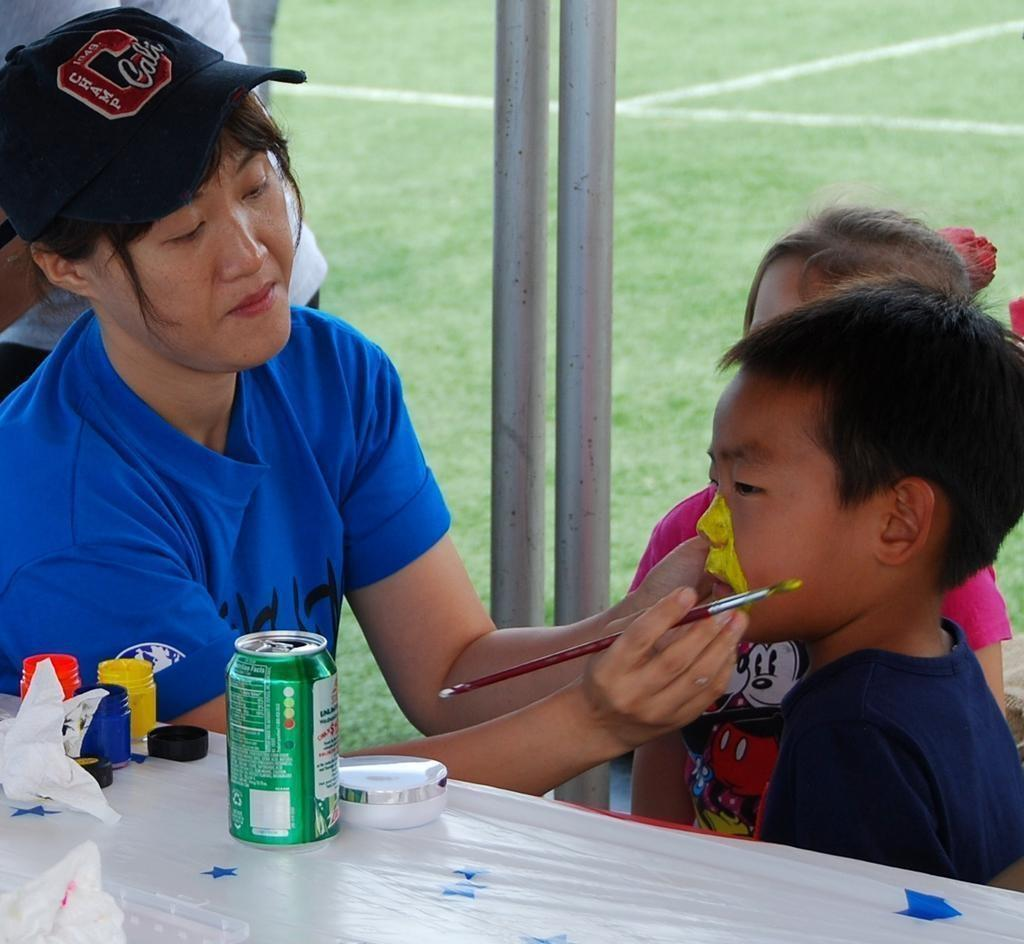tin can: (226, 631, 339, 849)
